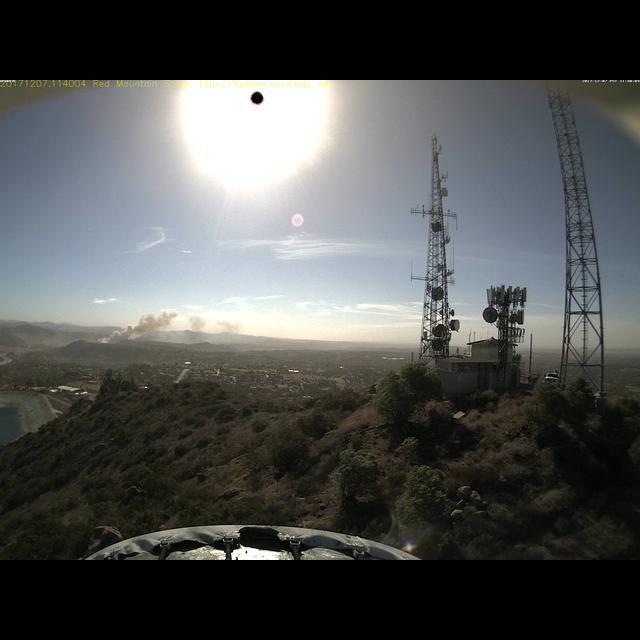Smoke: (91, 301, 251, 347)
